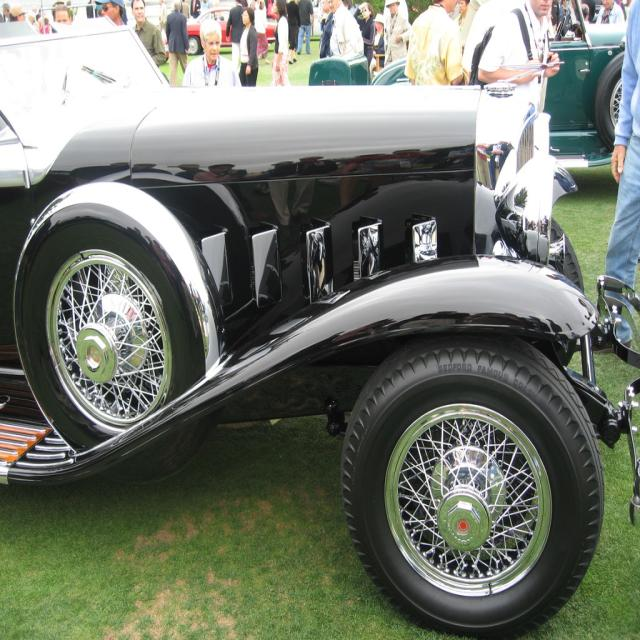car: (24, 33, 614, 609)
